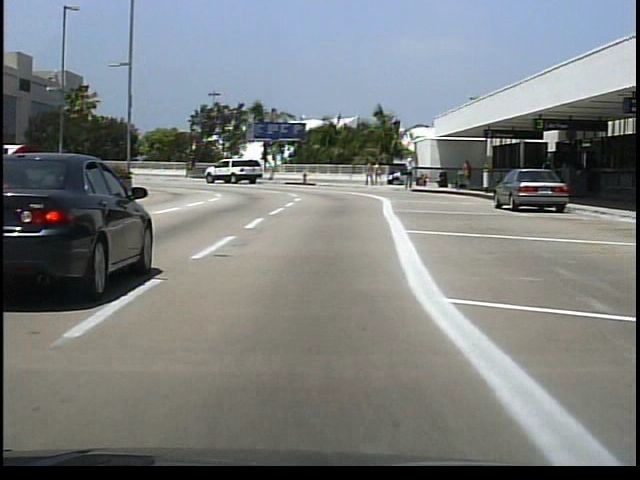person: (538, 155, 558, 201), (462, 160, 476, 190), (405, 156, 416, 192), (366, 161, 376, 189), (375, 160, 384, 188)
